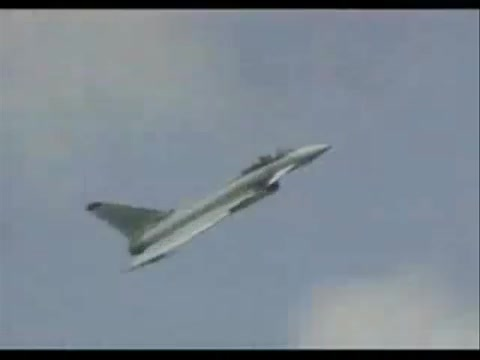aeroplane: (86, 137, 337, 273)
